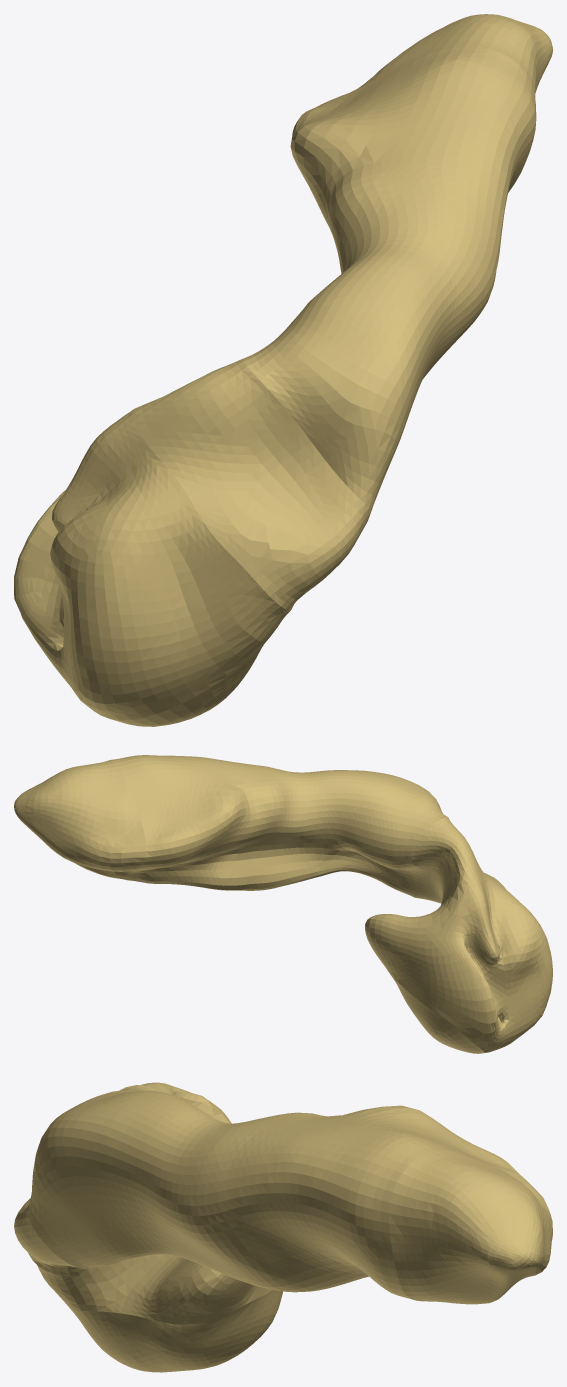
The model's file is pancreas.glb.
3 renders of one model, top to bottom at view 1: azimuth 30°, elevation 25°; view 2: azimuth 150°, elevation 25°; view 3: azimuth 270°, elevation 25°, orthographic. The views are drawn at different scales.
Parts seen in each view (by area): view 1: pancreas; view 2: pancreas; view 3: pancreas.
Boxes of the visible parts, x1=… form: pancreas: x1=14, y1=14, x2=552, y2=726; pancreas: x1=14, y1=755, x2=552, y2=1053; pancreas: x1=14, y1=1082, x2=552, y2=1372.
Size of the model in its own units: 0.1115 by 0.072 by 0.0836.
